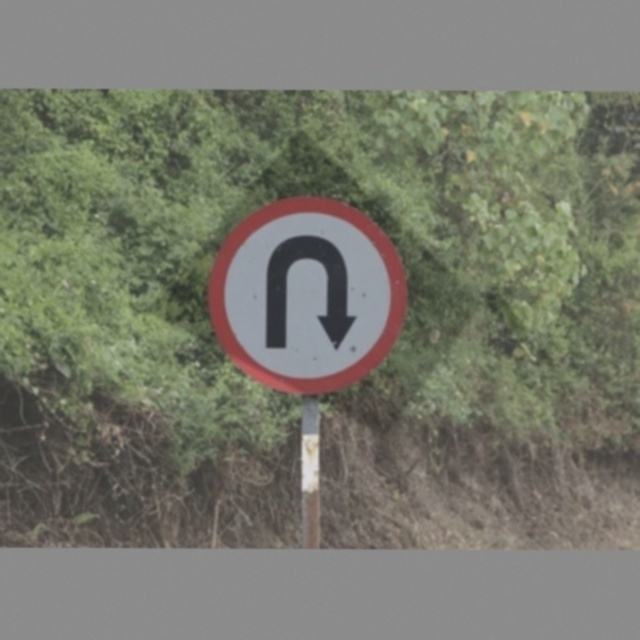U_Turn_Ahead: (208, 200, 414, 388)
